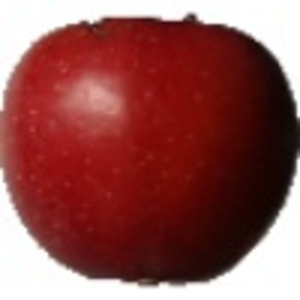maçã braeburn: (1, 11, 298, 290)
